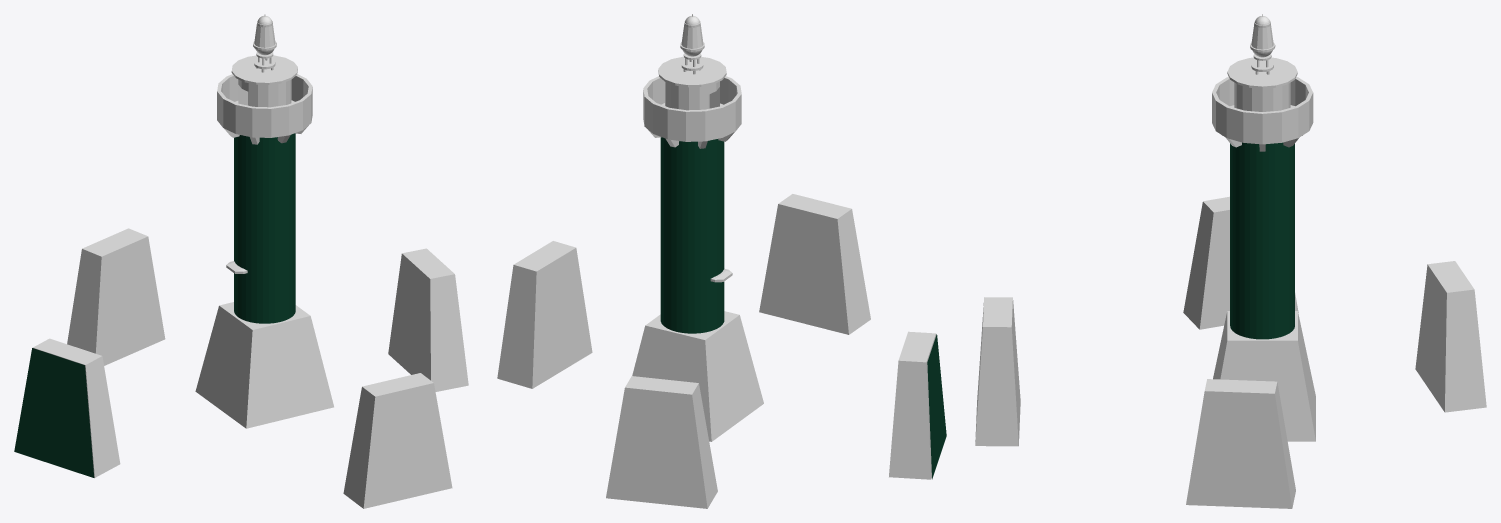
File: farol_ponta_verde_oficial.glb
3 renders of one model, left to right at view 1: azimuth 30°, elevation 25°; view 2: azimuth 150°, elevation 25°; view 3: azimuth 270°, elevation 25°, orthographic. The views are drawn at different scales.
Visible parts, largest first — view 1: Base_concreto.001, Base_concreto.004, Lodo_Ato2-col, Base_concreto.002, Base_concreto.003, Lodo_Ato1-col, Cilindro, Base_Concreto, Lodo_Ato3-col, Cilindro.015, Cilindro.001; view 2: Lodo_Ato2-col, Base_concreto.002, Base_concreto.004, Base_concreto.003, Base_concreto.001, Base_Concreto, Cilindro, Lodo_Ato3-col, Lodo_Ato1-col, Cilindro.015, Cilindro.001; view 3: Lodo_Ato2-col, Base_concreto.003, Base_concreto.002, Lodo_Ato3-col, Base_concreto.001, Base_concreto.004, Base_Concreto, Cilindro, Cilindro.015, Cilindro.001.
Boxes of the visible parts, <box> form: Base_concreto.001: <box>195,302,333,428</box>; Base_concreto.004: <box>343,373,452,508</box>; Lodo_Ato2-col: <box>234,133,295,323</box>; Base_concreto.002: <box>67,228,165,365</box>; Base_concreto.003: <box>388,248,468,391</box>; Lodo_Ato1-col: <box>14,348,94,477</box>; Cilindro: <box>217,74,312,137</box>; Base_Concreto: <box>33,338,120,477</box>; Lodo_Ato3-col: <box>234,133,295,321</box>; Cilindro.015: <box>231,55,297,84</box>; Cilindro.001: <box>238,79,291,107</box>; Lodo_Ato2-col: <box>660,137,724,333</box>; Base_concreto.002: <box>606,376,717,508</box>; Base_concreto.004: <box>759,194,870,334</box>; Base_concreto.003: <box>497,241,592,388</box>; Base_concreto.001: <box>632,311,763,441</box>; Base_Concreto: <box>889,331,936,479</box>; Cilindro: <box>643,76,741,141</box>; Lodo_Ato3-col: <box>660,138,719,331</box>; Lodo_Ato1-col: <box>927,334,946,479</box>; Cilindro.015: <box>658,56,726,87</box>; Cilindro.001: <box>665,81,719,110</box>; Lodo_Ato2-col: <box>1230,142,1294,339</box>; Base_concreto.003: <box>1186,379,1295,508</box>; Base_concreto.002: <box>1415,261,1486,412</box>; Lodo_Ato3-col: <box>1230,143,1294,339</box>; Base_concreto.001: <box>1213,311,1315,441</box>; Base_concreto.004: <box>975,297,1020,446</box>; Base_Concreto: <box>1183,196,1298,329</box>; Cilindro: <box>1212,77,1313,144</box>; Cilindro.015: <box>1227,57,1297,88</box>; Cilindro.001: <box>1234,82,1290,111</box>.
Size of what is drawn, in the model's own units: 12.41 by 11 by 12.57.
